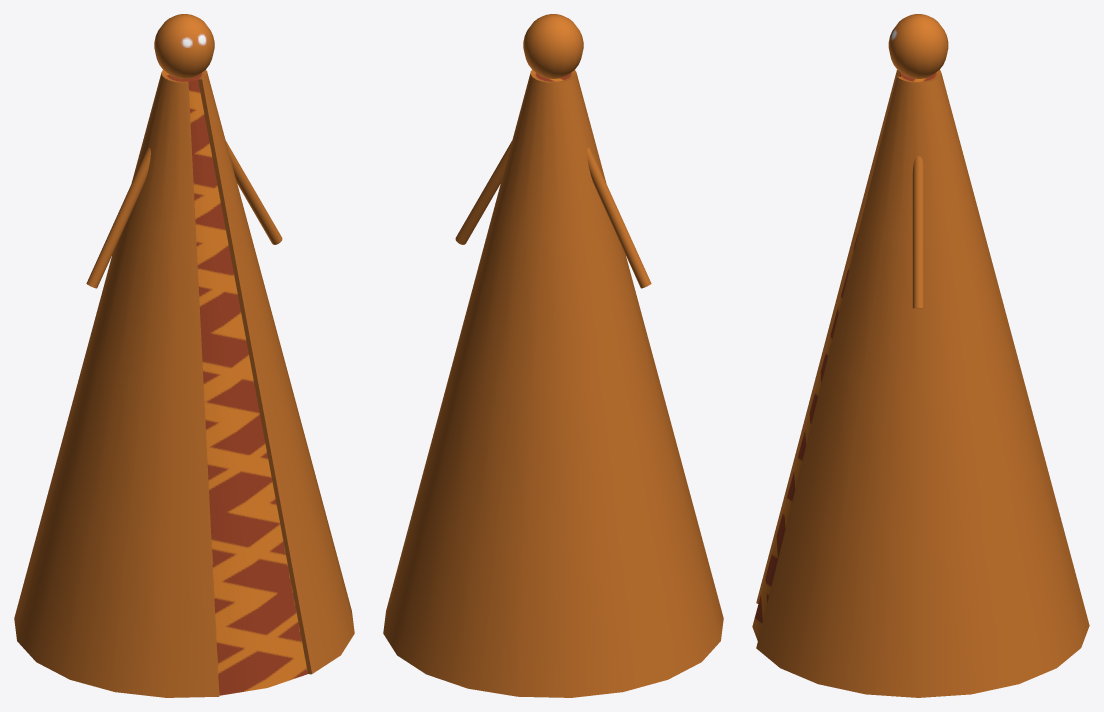
Rendered from guy_texture.glb.
3 renders of one model, left to right at view 1: azimuth 30°, elevation 25°; view 2: azimuth 150°, elevation 25°; view 3: azimuth 270°, elevation 25°, orthographic.
Visible parts, largest first — view 1: polySurface2, polySurface1, pSphere6, pCylinder7, pCylinder6; view 2: polySurface2, pSphere6, pCylinder7, pCylinder6; view 3: polySurface2, pSphere6, polySurface1, pCylinder6.
Boxes of the visible parts, x1,y1,x2,y2 form: polySurface2: [14, 70, 354, 697]; polySurface1: [166, 73, 307, 695]; pSphere6: [154, 14, 214, 78]; pCylinder7: [86, 147, 150, 288]; pCylinder6: [226, 141, 282, 244]; polySurface2: [383, 70, 723, 697]; pSphere6: [523, 14, 583, 78]; pCylinder7: [587, 147, 651, 288]; pCylinder6: [455, 141, 511, 244]; polySurface2: [756, 69, 1089, 697]; pSphere6: [888, 14, 948, 78]; polySurface1: [752, 73, 936, 640]; pCylinder6: [912, 156, 924, 308].
Size of the model in its own units: 0.2065 by 0.4063 by 0.2035.
Materials: 1 (1 with a texture image).
